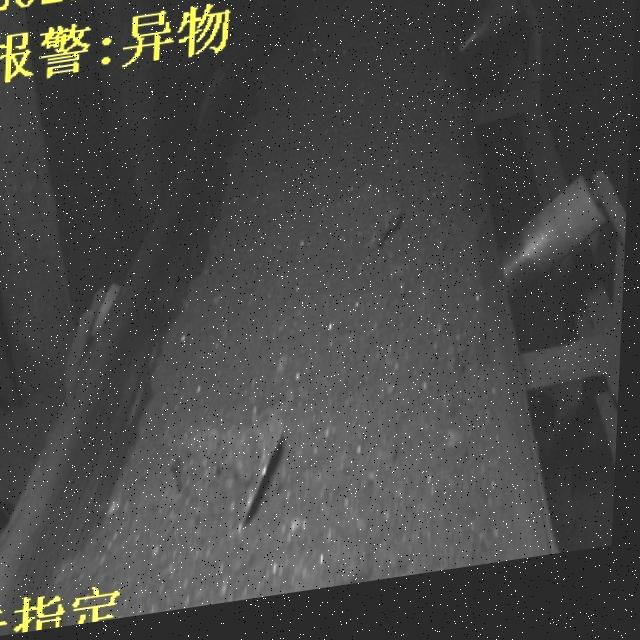large_sized_coal: (173, 425, 297, 535), (329, 190, 399, 270)
